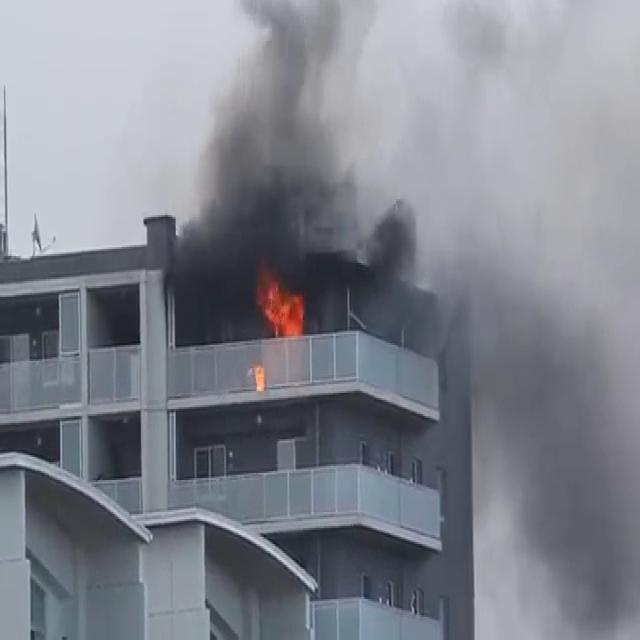Fire: (251, 264, 309, 340)
Smoke: (156, 1, 640, 358)
